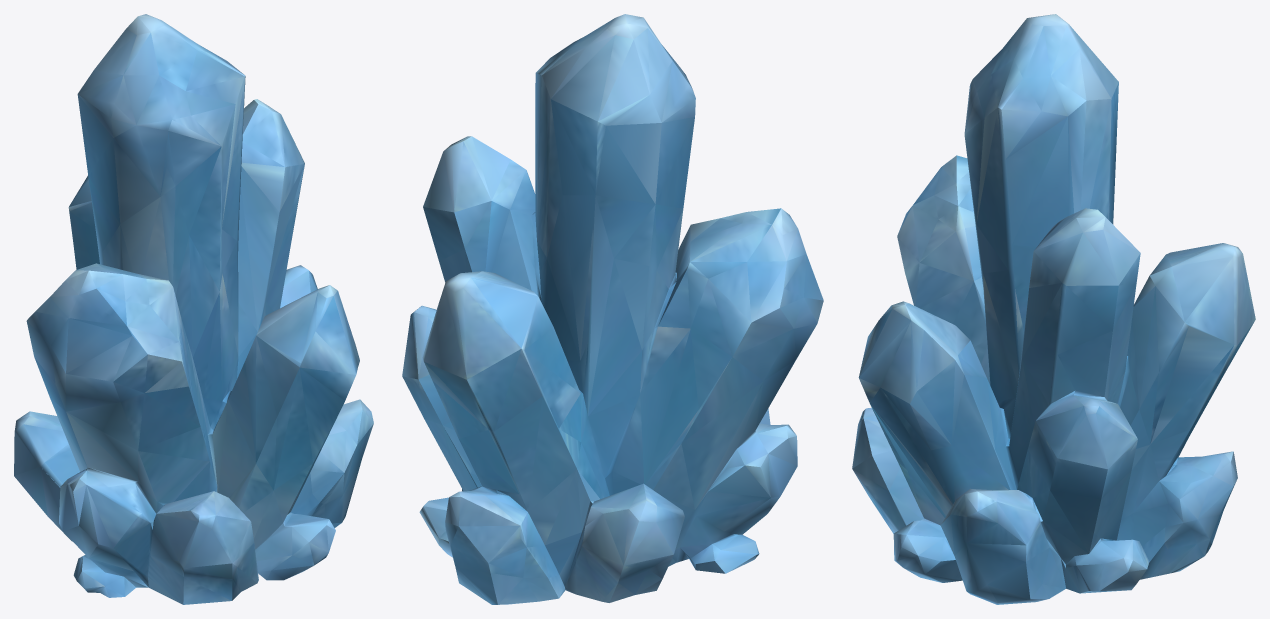
File: racimo_hielo_m_1200.glb
3 views of the same model, side by side, from view 1: azimuth 30°, elevation 25°; view 2: azimuth 150°, elevation 25°; view 3: azimuth 270°, elevation 25° (orthographic). The views are drawn at different scales.
Visible parts, largest first — view 1: racimo_hielo_m_malla; view 2: racimo_hielo_m_malla; view 3: racimo_hielo_m_malla.
Boxes of the visible parts, box(x1,y1,x2,y2) form: racimo_hielo_m_malla: box(14, 14, 373, 604); racimo_hielo_m_malla: box(402, 14, 823, 604); racimo_hielo_m_malla: box(852, 14, 1255, 604).
Size of the model in its own units: 0.1547 by 0.2387 by 0.1684.
1 material, 1 textured.
